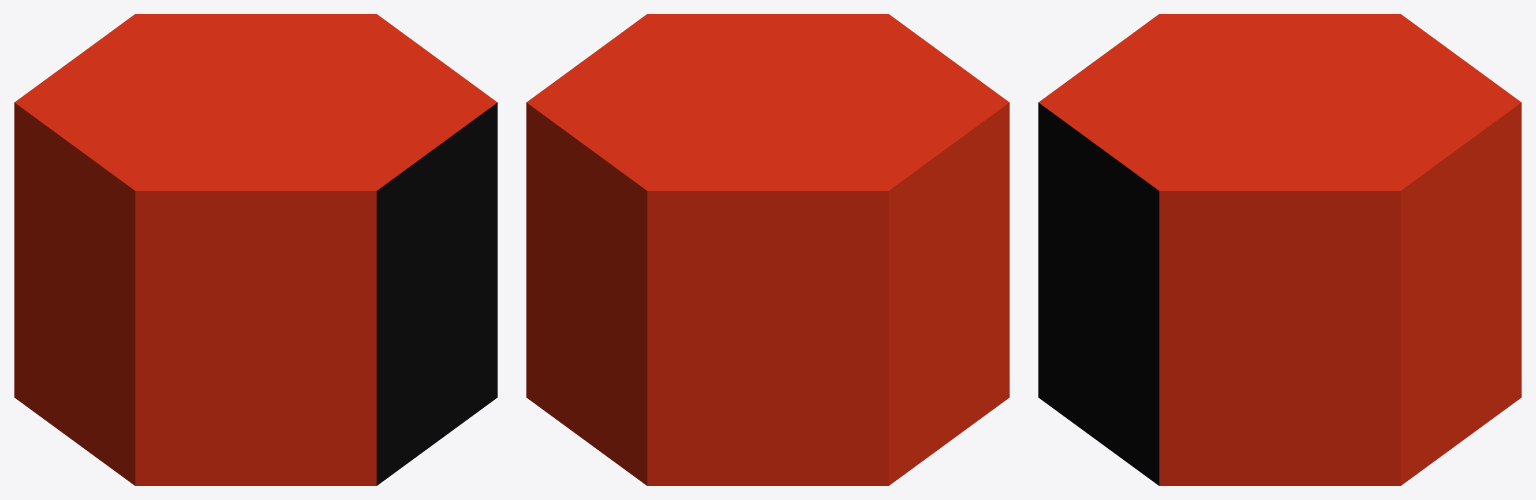
Rendered from spawn_enemy.glb.
3 renders of one model, left to right at view 1: azimuth 30°, elevation 25°; view 2: azimuth 150°, elevation 25°; view 3: azimuth 270°, elevation 25°, orthographic.
Parts seen in each view (by area): view 1: SpawnEnemy-col; view 2: SpawnEnemy-col; view 3: SpawnEnemy-col.
Boxes of the visible parts, left/top/right/bottom form: SpawnEnemy-col: left=14, top=14, right=497, bottom=485; SpawnEnemy-col: left=526, top=14, right=1009, bottom=485; SpawnEnemy-col: left=1038, top=14, right=1521, bottom=485.
Bounding box in the file's own units: 0.6424 × 0.5 × 0.7418.
Materials: 1 (1 with a texture image).
